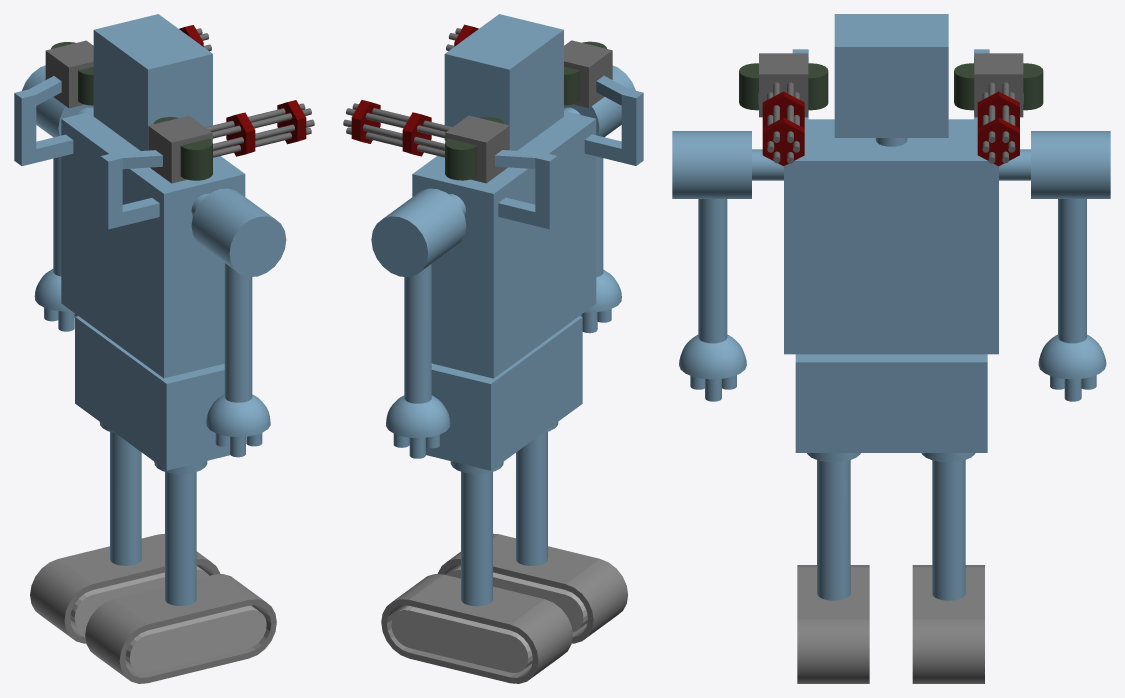
File: Robot (Gatling Gun).fbx
3 renders of one model, left to right at view 1: azimuth 30°, elevation 25°; view 2: azimuth 150°, elevation 25°; view 3: azimuth 270°, elevation 25°, orthographic. The views are drawn at different scales.
Parts seen in each view (by area): view 1: Body_and_Legs, Wheels, Gatling_GUns, Head___Head_Joint, Right_Shoulder_Cylinder, Right_arm, Right_Hand, Left_Hand, Left_Shoulder_Cylinder, Left_Arm; view 2: Body_and_Legs, Wheels, Gatling_GUns, Head___Head_Joint, Left_Shoulder_Cylinder, Left_Arm, Left_Hand, Right_Shoulder_Cylinder, Right_Hand, Right_arm; view 3: Body_and_Legs, Wheels, Head___Head_Joint, Gatling_GUns, Right_Shoulder_Cylinder, Left_Shoulder_Cylinder, Right_arm, Left_Arm, Left_Hand, Right_Hand, Left_Arm_Joint, Right_arm_joint.
Part boxes in pixels (bbox=[...]): Body_and_Legs: bbox=[61, 111, 245, 605]; Wheels: bbox=[30, 534, 276, 683]; Gatling_GUns: bbox=[14, 25, 314, 229]; Head___Head_Joint: bbox=[93, 14, 212, 150]; Right_Shoulder_Cylinder: bbox=[191, 188, 286, 277]; Right_arm: bbox=[224, 263, 252, 402]; Right_Hand: bbox=[206, 394, 270, 457]; Left_Hand: bbox=[34, 269, 77, 331]; Left_Shoulder_Cylinder: bbox=[22, 65, 93, 137]; Left_Arm: bbox=[53, 157, 61, 276]; Body_and_Legs: bbox=[412, 111, 596, 606]; Wheels: bbox=[381, 533, 627, 683]; Gatling_GUns: bbox=[343, 24, 643, 229]; Head___Head_Joint: bbox=[444, 14, 563, 150]; Left_Shoulder_Cylinder: bbox=[371, 188, 466, 277]; Left_Arm: bbox=[404, 264, 431, 403]; Left_Hand: bbox=[386, 395, 450, 458]; Right_Shoulder_Cylinder: bbox=[564, 65, 635, 137]; Right_Hand: bbox=[579, 269, 621, 333]; Right_arm: bbox=[596, 156, 603, 277]; Body_and_Legs: bbox=[784, 119, 998, 600]; Wheels: bbox=[797, 565, 984, 683]; Head___Head_Joint: bbox=[834, 14, 948, 146]; Gatling_GUns: bbox=[739, 49, 1043, 166]; Right_Shoulder_Cylinder: bbox=[672, 131, 751, 198]; Left_Shoulder_Cylinder: bbox=[1031, 131, 1110, 198]; Right_arm: bbox=[698, 199, 727, 343]; Left_Arm: bbox=[1058, 199, 1086, 343]; Left_Hand: bbox=[1038, 334, 1106, 401]; Right_Hand: bbox=[679, 334, 746, 401]; Left_Arm_Joint: bbox=[999, 149, 1030, 180]; Right_arm_joint: bbox=[752, 149, 783, 180].
Size of the model in its own units: 4.29 by 12.57 by 8.
